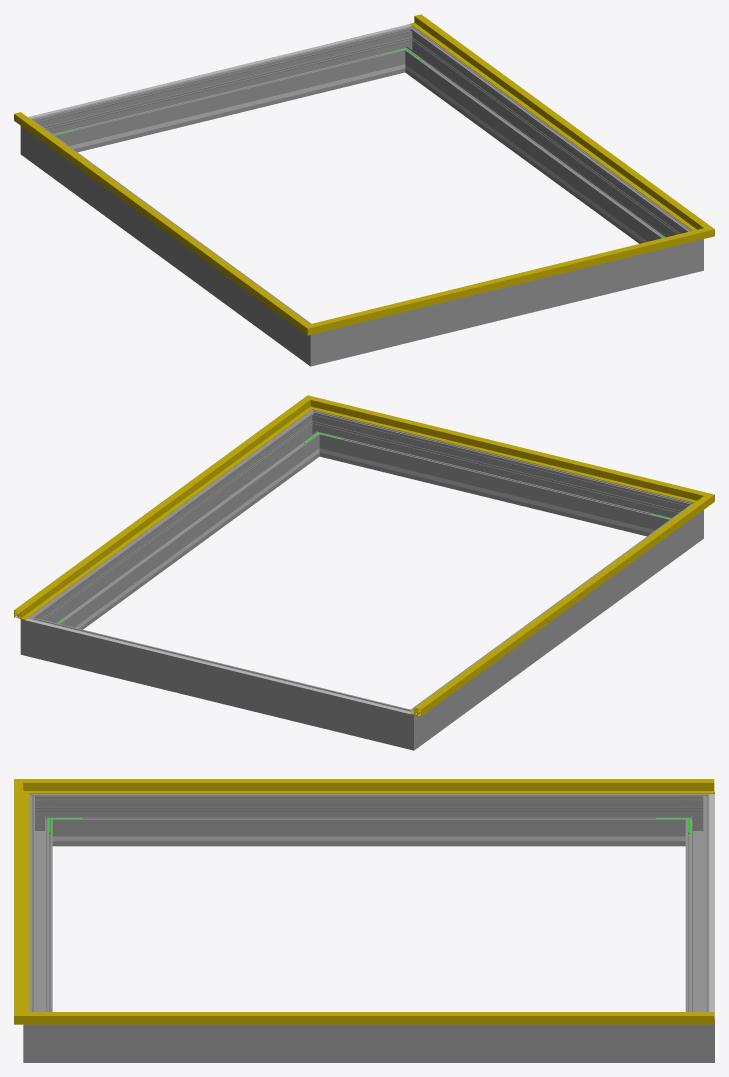
The picture shows the model from 3 angles, top to bottom: view 1: azimuth 30°, elevation 25°; view 2: azimuth 150°, elevation 25°; view 3: azimuth 270°, elevation 25°; orthographic projection. The views are drawn at different scales.
Parts seen in each view (by area): view 1: 3DGeom-276, 3DGeom-297, 3DGeom-298, 3DGeom-268, 3DGeom-128, 3DGeom-123, 3DGeom-118, 3DGeom-244, 3DGeom-270, 3DGeom-220, 3DGeom-237, 3DGeom-284 (+2 smaller); view 2: 3DGeom-298, 3DGeom-276, 3DGeom-297, 3DGeom-268, 3DGeom-128, 3DGeom-123, 3DGeom-118, 3DGeom-278, 3DGeom-239, 3DGeom-220, 3DGeom-237, 3DGeom-284 (+2 smaller); view 3: 3DGeom-268, 3DGeom-297, 3DGeom-118, 3DGeom-128, 3DGeom-276, 3DGeom-298, 3DGeom-232, 3DGeom-123, 3DGeom-290, 3DGeom-284, 3DGeom-220, 3DGeom-270 (+3 smaller).
Part boxes in pixels (left/top/right/bottom): 3DGeom-276: left=48, top=31, right=400, bottom=152; 3DGeom-297: left=407, top=34, right=685, bottom=243; 3DGeom-298: left=336, top=245, right=678, bottom=360; 3DGeom-268: left=35, top=127, right=303, bottom=355; 3DGeom-128: left=410, top=14, right=699, bottom=227; 3DGeom-123: left=329, top=232, right=689, bottom=329; 3DGeom-118: left=14, top=112, right=299, bottom=324; 3DGeom-244: left=78, top=70, right=380, bottom=147; 3DGeom-270: left=296, top=318, right=335, bottom=366; 3DGeom-220: left=28, top=24, right=411, bottom=118; 3DGeom-237: left=419, top=75, right=647, bottom=242; 3DGeom-284: left=391, top=25, right=424, bottom=73; 3DGeom-298: left=323, top=415, right=676, bottom=536; 3DGeom-276: left=46, top=622, right=393, bottom=744; 3DGeom-297: left=39, top=418, right=316, bottom=629; 3DGeom-268: left=421, top=511, right=689, bottom=739; 3DGeom-128: left=14, top=406, right=303, bottom=619; 3DGeom-123: left=327, top=401, right=688, bottom=499; 3DGeom-118: left=410, top=504, right=700, bottom=716; 3DGeom-278: left=388, top=702, right=428, bottom=750; 3DGeom-239: left=344, top=454, right=645, bottom=531; 3DGeom-220: left=25, top=618, right=411, bottom=714; 3DGeom-237: left=75, top=459, right=305, bottom=628; 3DGeom-284: left=20, top=609, right=50, bottom=660; 3DGeom-268: left=58, top=794, right=679, bottom=846; 3DGeom-297: left=58, top=1024, right=679, bottom=1062; 3DGeom-118: left=49, top=779, right=714, bottom=793; 3DGeom-128: left=49, top=1012, right=714, bottom=1024; 3DGeom-276: left=685, top=806, right=709, bottom=1011; 3DGeom-298: left=29, top=806, right=52, bottom=1011; 3DGeom-232: left=86, top=836, right=651, bottom=841; 3DGeom-123: left=14, top=794, right=29, bottom=1009; 3DGeom-290: left=23, top=1005, right=58, bottom=1062; 3DGeom-284: left=680, top=1005, right=714, bottom=1062; 3DGeom-220: left=709, top=793, right=714, bottom=1018; 3DGeom-270: left=29, top=794, right=58, bottom=846.
Size of the model in its own units: 2.44 by 0.2434 by 3.05.
